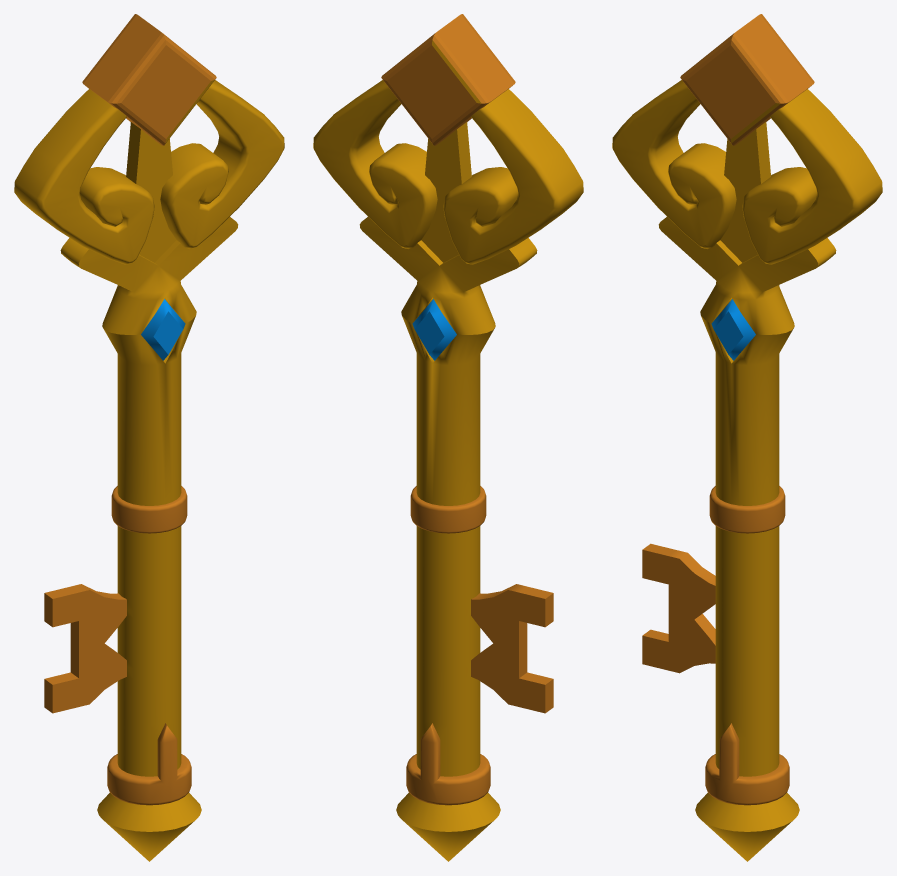
File: (Item)Main-Key.fbx
3 views of the same model, side by side, from view 1: azimuth 30°, elevation 25°; view 2: azimuth 150°, elevation 25°; view 3: azimuth 330°, elevation 25° (orthographic).
Parts seen in each view (by area): view 1: Master Key; view 2: Master Key; view 3: Master Key.
Part boxes in pixels (x1,y1,x2,y2): Master Key: [14, 14, 284, 861]; Master Key: [313, 14, 583, 861]; Master Key: [612, 14, 882, 861].
Bounding box in the file's own units: 3.39 × 10.94 × 1.24.
